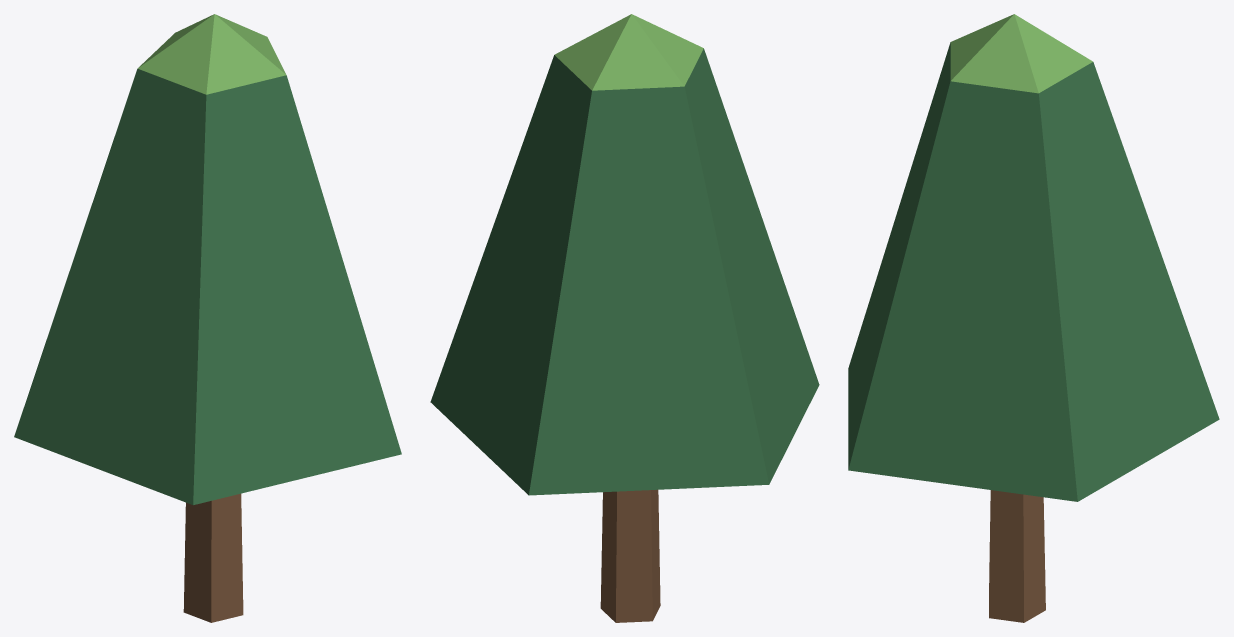
Rendered from prop_tree_oak.glb.
The picture shows the model from 3 angles, left to right: view 1: azimuth 30°, elevation 25°; view 2: azimuth 150°, elevation 25°; view 3: azimuth 270°, elevation 25°; orthographic projection.
Parts seen in each view (by area): view 1: prop_tree_oak; view 2: prop_tree_oak; view 3: prop_tree_oak.
Boxes of the visible parts, left/top/right/bottom form: prop_tree_oak: left=14, top=14, right=401, bottom=622; prop_tree_oak: left=430, top=14, right=819, bottom=622; prop_tree_oak: left=848, top=14, right=1219, bottom=622.
Bounding box in the file's own units: 1.48 × 2.5 × 1.41.
1 material, 1 textured.
